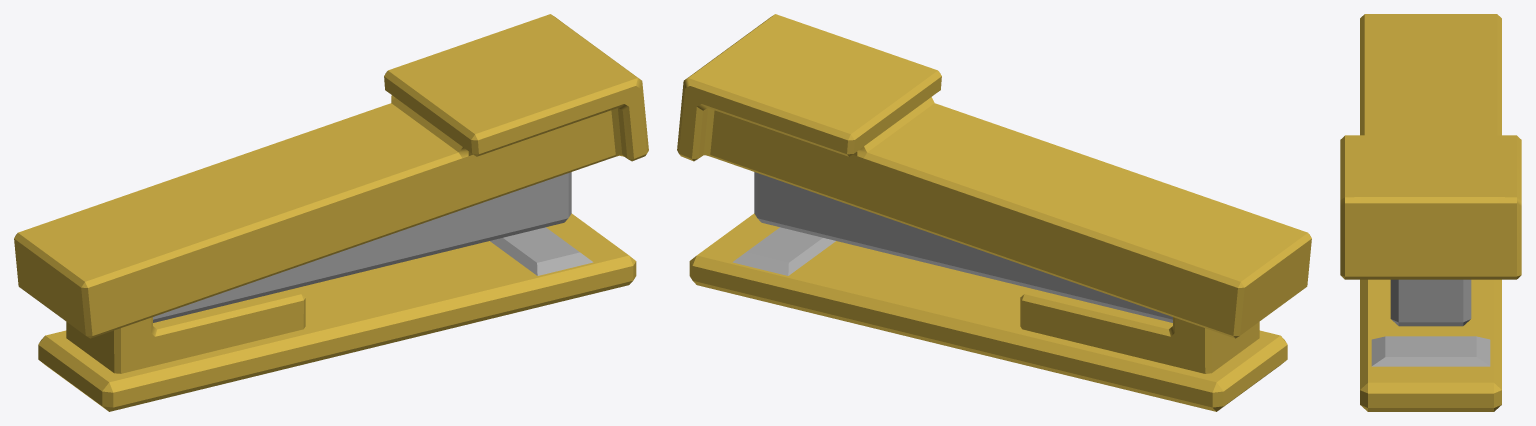
Rendered from SM_Stapler.fbx.
3 views of the same model, side by side, from view 1: azimuth 30°, elevation 25°; view 2: azimuth 150°, elevation 25°; view 3: azimuth 270°, elevation 25° (orthographic).
Parts seen in each view (by area): view 1: SM_Stapler; view 2: SM_Stapler; view 3: SM_Stapler.
Boxes of the visible parts, <box> form: SM_Stapler: <box>14,14,648,411</box>; SM_Stapler: <box>677,14,1311,411</box>; SM_Stapler: <box>1340,14,1521,411</box>.
Size of the model in its own units: 35.31 by 13.1 by 10.1.
